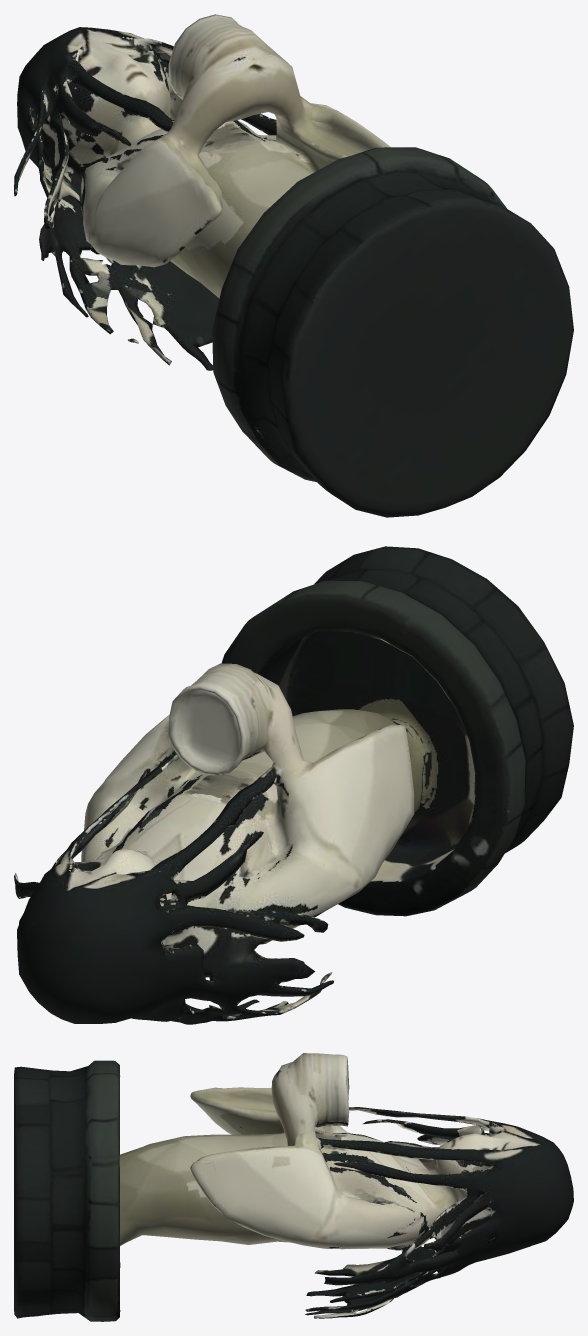
File: Okiku.glb
3 renders of one model, top to bottom at view 1: azimuth 30°, elevation 25°; view 2: azimuth 150°, elevation 25°; view 3: azimuth 270°, elevation 25°, orthographic. The views are drawn at different scales.
Parts seen in each view (by area): view 1: Retopo_okiku_RemeshSrc; view 2: Retopo_okiku_RemeshSrc; view 3: Retopo_okiku_RemeshSrc.
Part boxes in pixels (x1,y1,x2,y2): Retopo_okiku_RemeshSrc: [14, 14, 573, 517]; Retopo_okiku_RemeshSrc: [14, 546, 573, 1024]; Retopo_okiku_RemeshSrc: [14, 1053, 573, 1321].
Bounding box in the file's own units: 0.9028 × 0.9819 × 1.96.
1 material, 1 textured.
